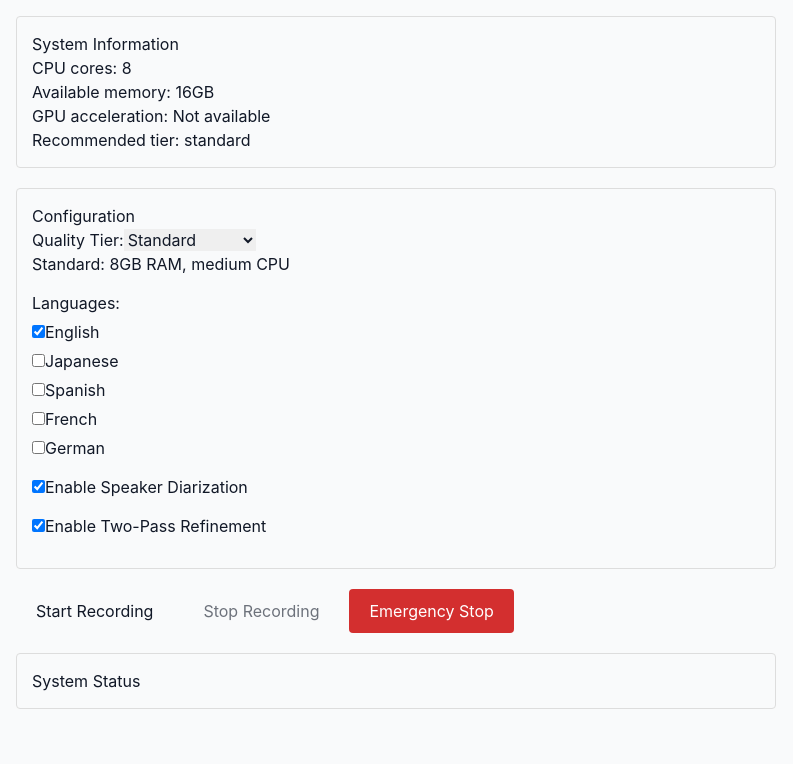
TranscriptionController Component › Transcription Session Management › should stop transcription session and return results
Note: Start session first
Click the button with test id "start-recording-button".
click(95, 611)  # box [16, 589, 173, 633]
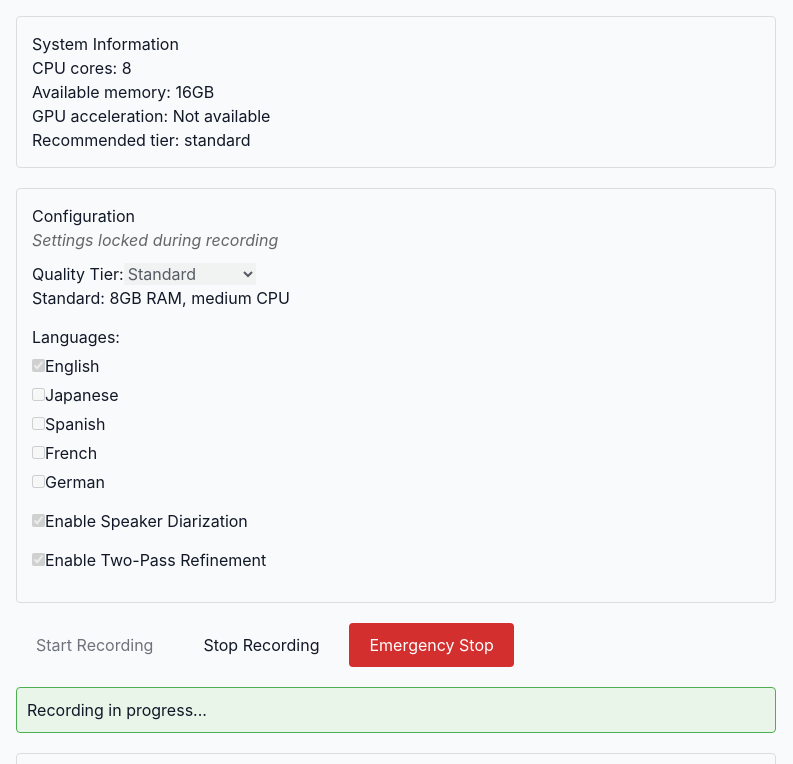
expect the text "Recording in progress..." is shown: met, box [16, 687, 776, 733]
Note: Stop recording
Click the button with test id "stop-recording-button".
click(261, 645)  # box [183, 623, 340, 667]
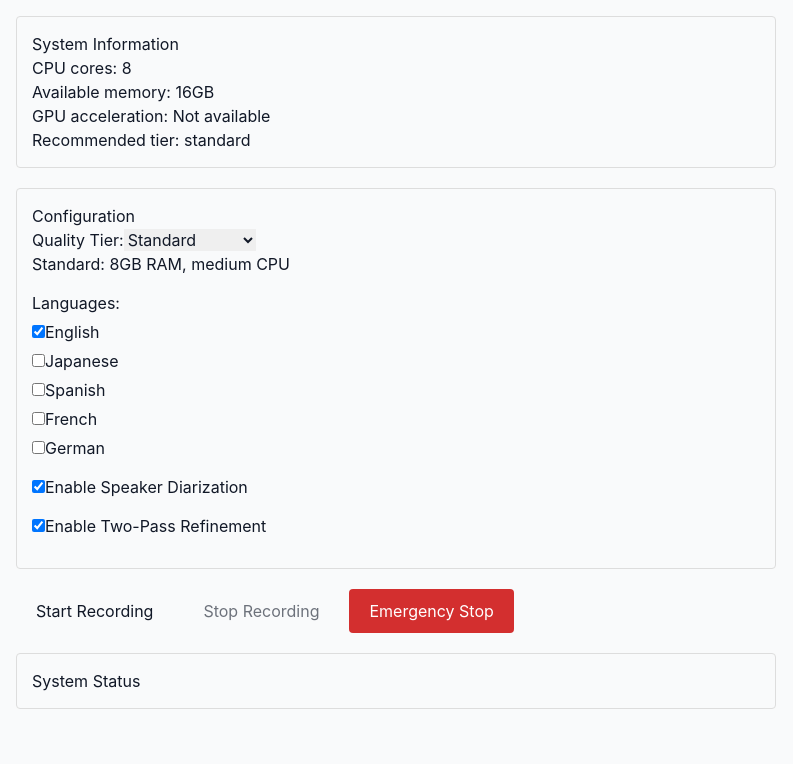
expect the text with test id "recording-active-indicator" is gone: met
expect the button with test id "start-recording-button" is enabled: met, box [16, 589, 173, 633]
expect the button with test id "stop-recording-button" is disabled: met, box [183, 589, 340, 633]
